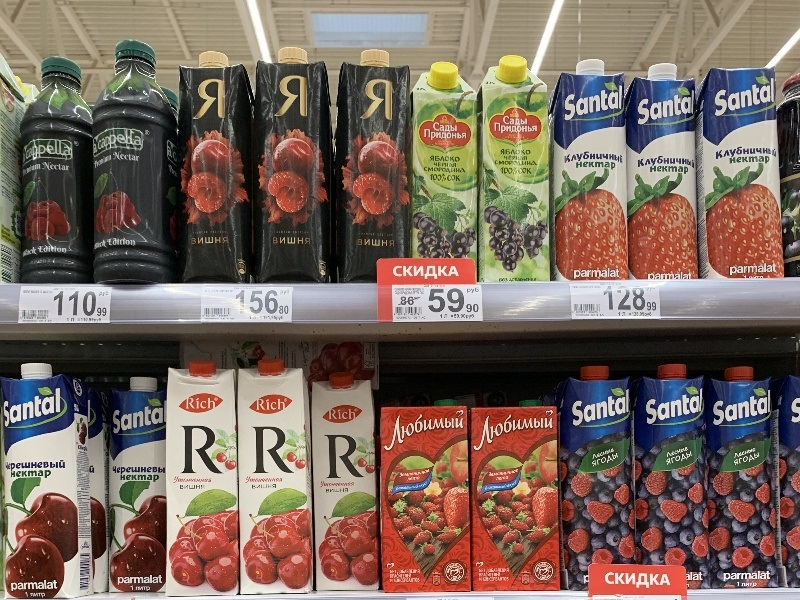juice: (690, 58, 799, 290), (248, 43, 346, 288), (363, 395, 477, 592), (2, 362, 95, 598), (173, 43, 261, 290), (231, 354, 321, 592), (547, 59, 639, 290), (476, 54, 562, 292), (162, 359, 248, 597), (623, 61, 711, 292), (466, 392, 568, 591), (300, 368, 390, 592), (552, 363, 647, 573), (92, 368, 176, 598), (705, 363, 786, 590), (334, 44, 414, 269), (634, 361, 716, 571), (405, 59, 486, 266)
